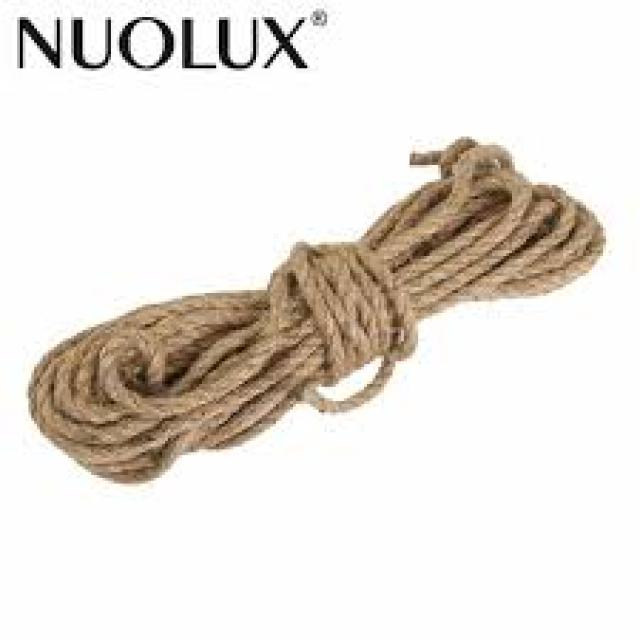rope: (32, 139, 602, 479)
